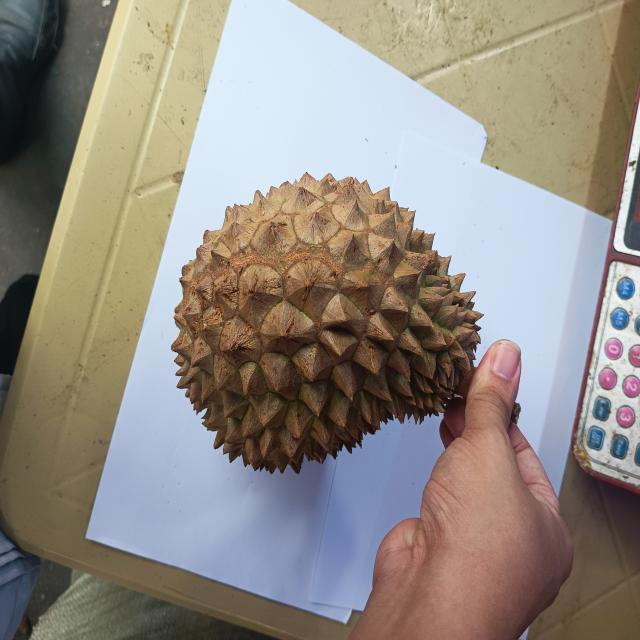mature: (171, 173, 483, 472)
